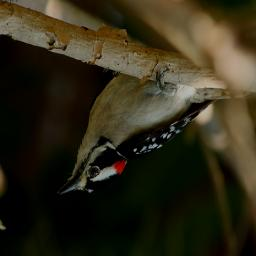Woodpecker: (55, 63, 253, 203)
